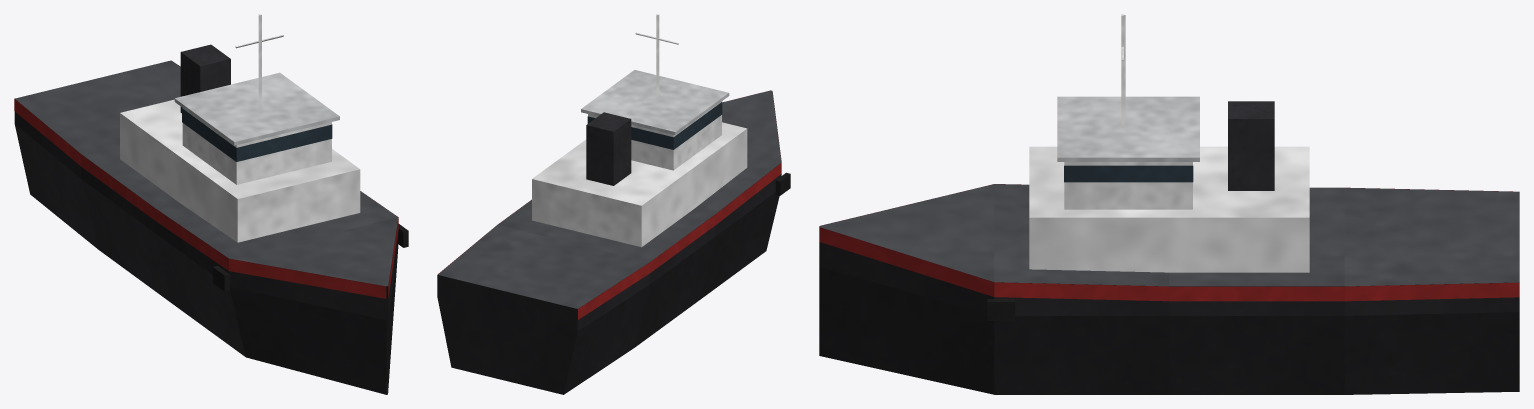
File: SM_MoloItalia_Rimorchiatore_Tiramolla_v2_LOD2.fbx
The picture shows the model from 3 angles, left to right: view 1: azimuth 30°, elevation 25°; view 2: azimuth 150°, elevation 25°; view 3: azimuth 270°, elevation 25°; orthographic projection. The views are drawn at different scales.
Visible parts, largest first — view 1: SM_MoloItalia_Rimorchiatore_Tiramolla_v2_LOD2; view 2: SM_MoloItalia_Rimorchiatore_Tiramolla_v2_LOD2; view 3: SM_MoloItalia_Rimorchiatore_Tiramolla_v2_LOD2.
Part boxes in pixels (bbox=[...]): SM_MoloItalia_Rimorchiatore_Tiramolla_v2_LOD2: bbox=[14, 14, 408, 394]; SM_MoloItalia_Rimorchiatore_Tiramolla_v2_LOD2: bbox=[437, 14, 790, 394]; SM_MoloItalia_Rimorchiatore_Tiramolla_v2_LOD2: bbox=[819, 14, 1519, 394].
Size of the model in its own units: 1081 by 3000 by 1610.
1 material, 1 textured.
